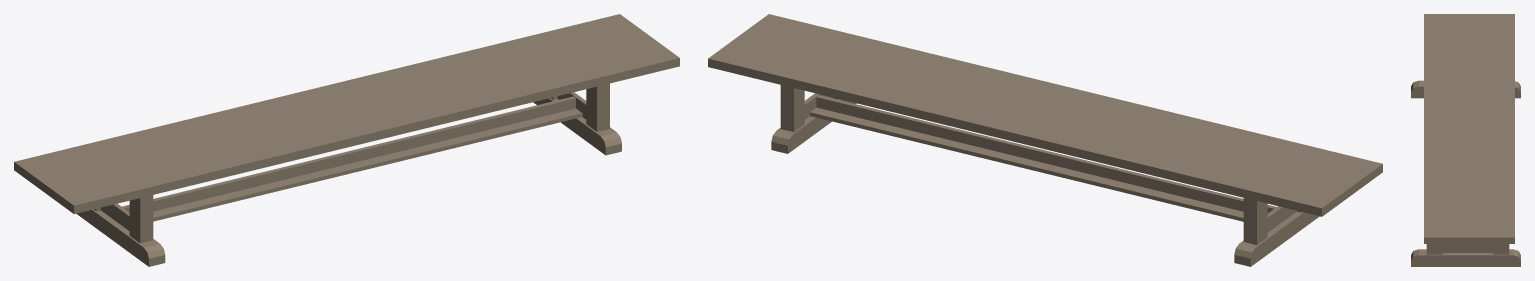
Rendered from Bench.fbx.
3 views of the same model, side by side, from view 1: azimuth 30°, elevation 25°; view 2: azimuth 150°, elevation 25°; view 3: azimuth 270°, elevation 25° (orthographic). The views are drawn at different scales.
Visible parts, largest first — view 1: Bench; view 2: Bench; view 3: Bench.
Boxes of the visible parts, x1=… form: Bench: x1=14, y1=14, x2=679, y2=266; Bench: x1=708, y1=14, x2=1382, y2=266; Bench: x1=1411, y1=14, x2=1520, y2=266.
Size of the model in its own units: 581 by 65.18 by 121.
